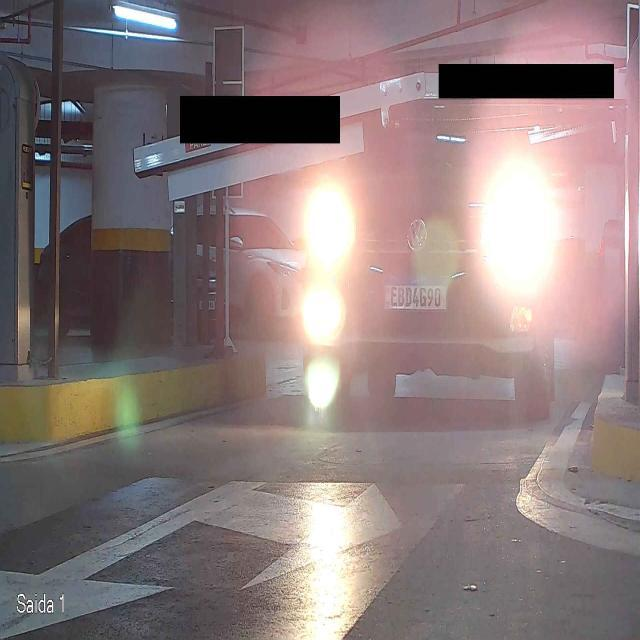mercosul_plate: (383, 279, 449, 311)
